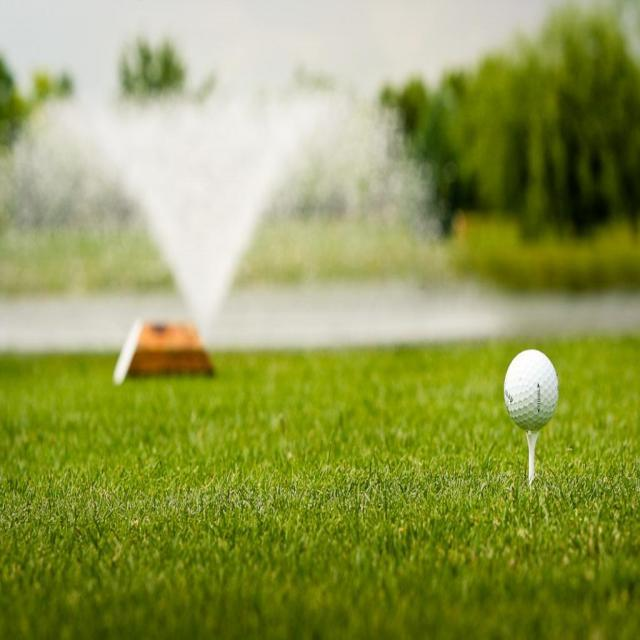GolfBall: (491, 338, 572, 436)
